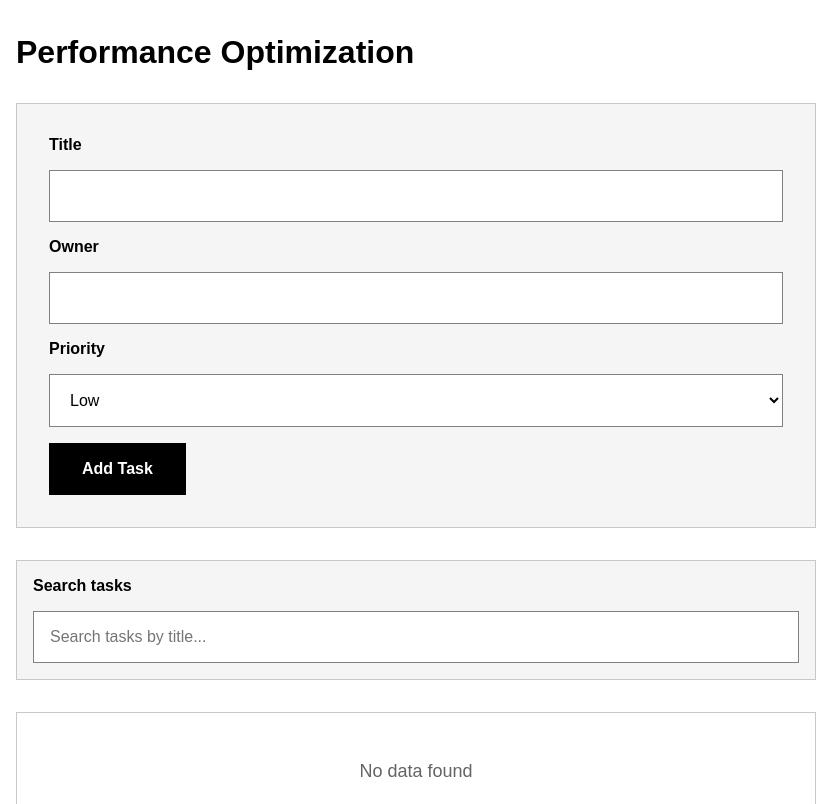
Test: TaskTracker - Happy Path › adds a new task to the list when the form is submitted
Check: the heading "Performance Optimization" is shown, box [16,34,414,70]
# Fill in the task details
Type "Optimize Image Loading" into the field labelled "Title" at (416, 196), box [49,170,783,222]
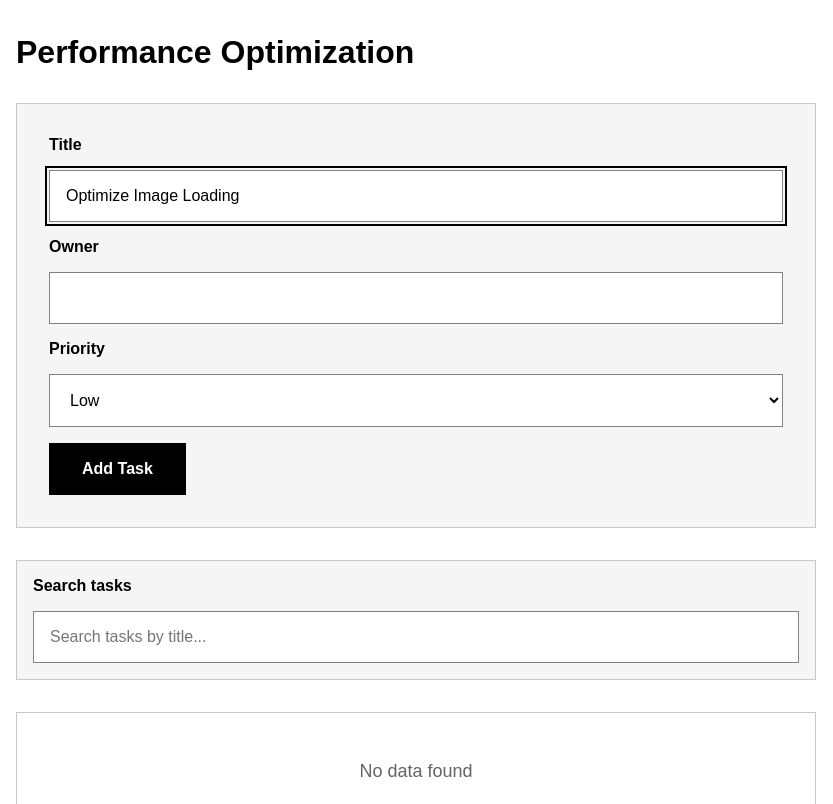
Type "Sarah" into the field labelled "Owner" at (416, 298), box [49,272,783,324]
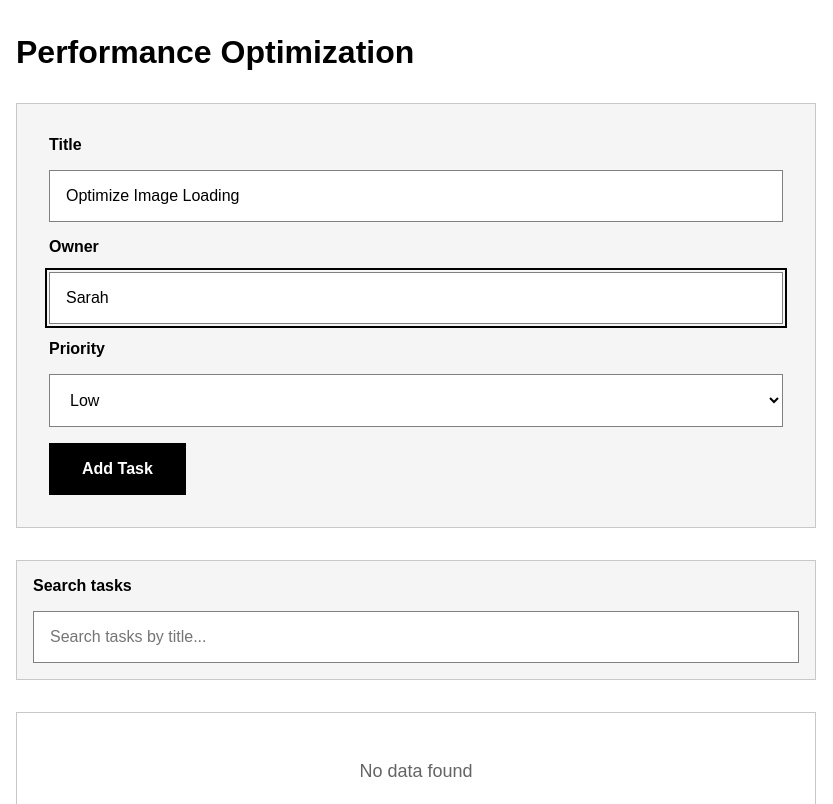
Select "High" in the dropdown labelled "Priority" at (416, 400), box [49,374,783,427]
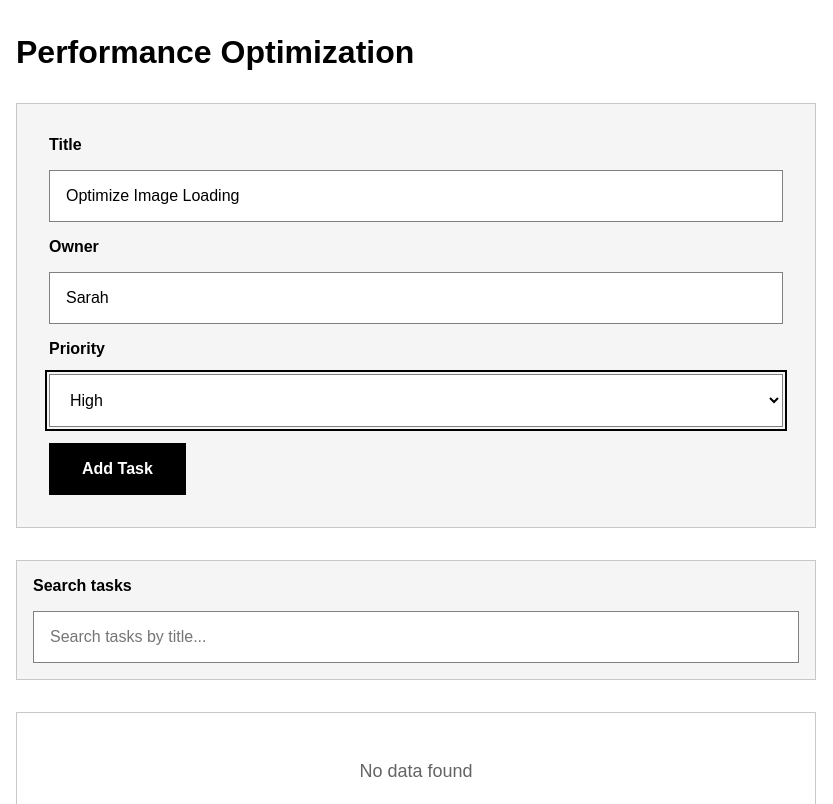
# Click the Add Task button
Click the button "Add Task" at (117, 469), box [49,443,186,495]
(page scrolled)
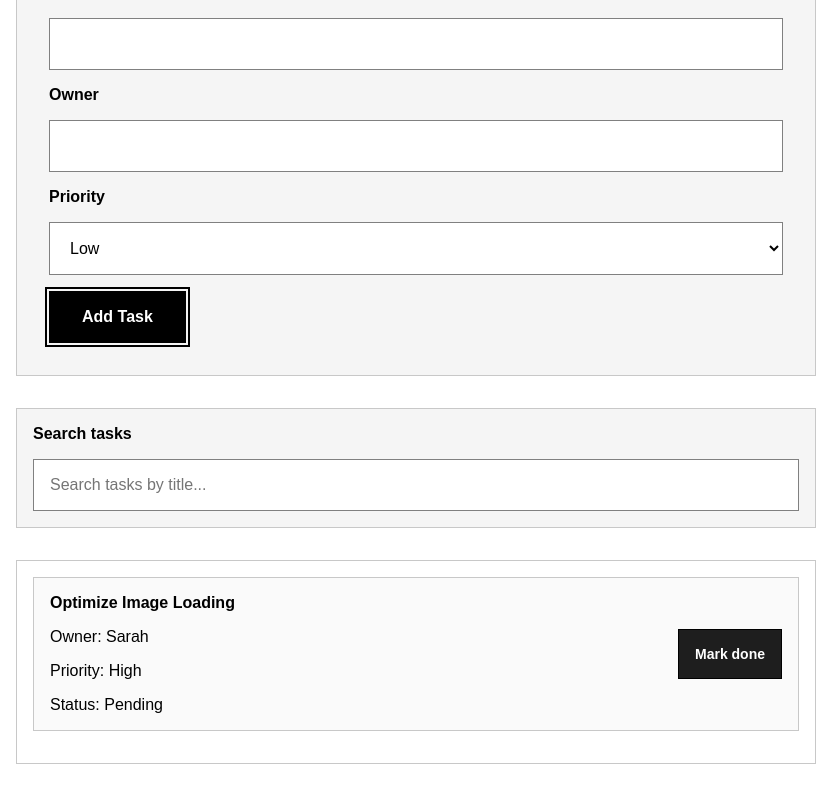
Check: the text "Optimize Image Loading" is shown, box [50,594,235,612]
Check: the text "Owner: Sarah" is shown, box [50,628,149,645]
Check: the text "Priority: High" is shown, box [50,662,142,679]
